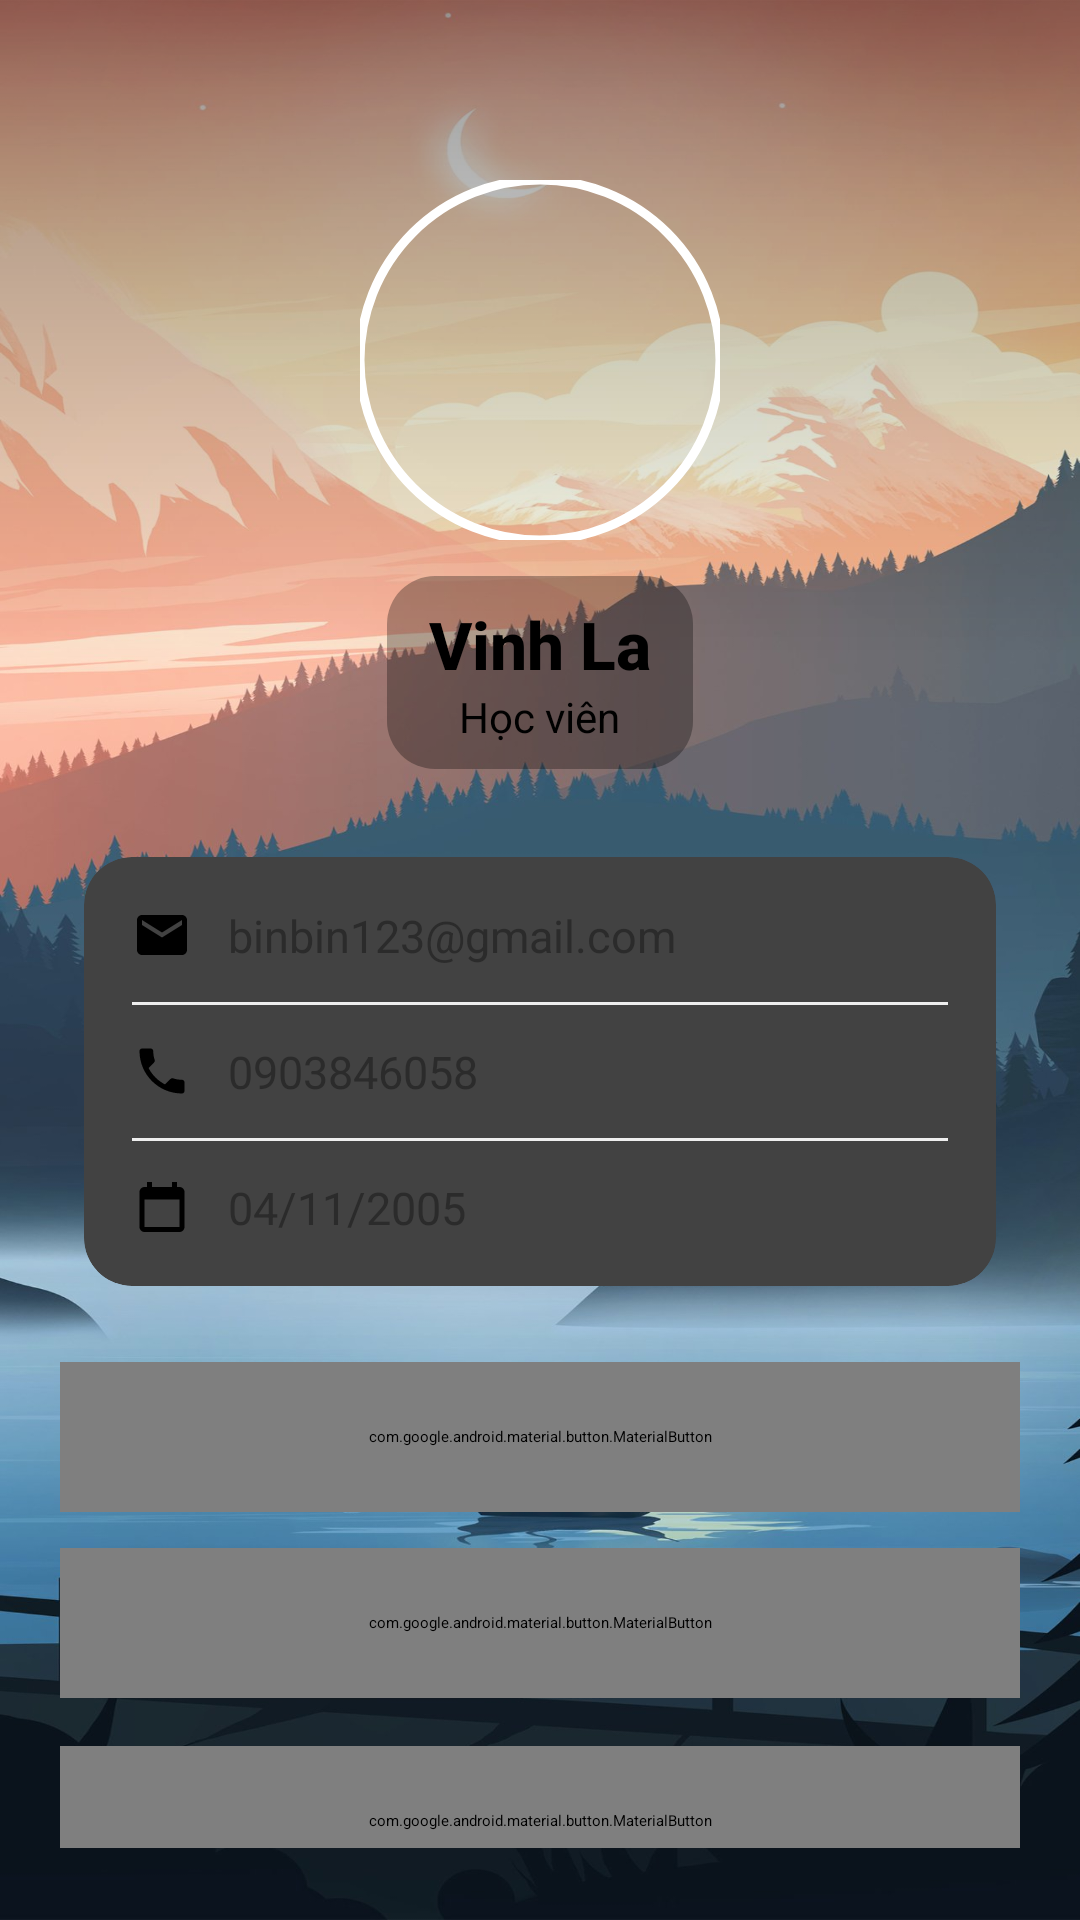

Icon bounding boxes for this 1080 × 1920 phone screenshot, format (x1, y1, x2, y2):
calendar: (139, 1182, 185, 1232)
email: (137, 915, 187, 955)
phone: (139, 1048, 185, 1094)
